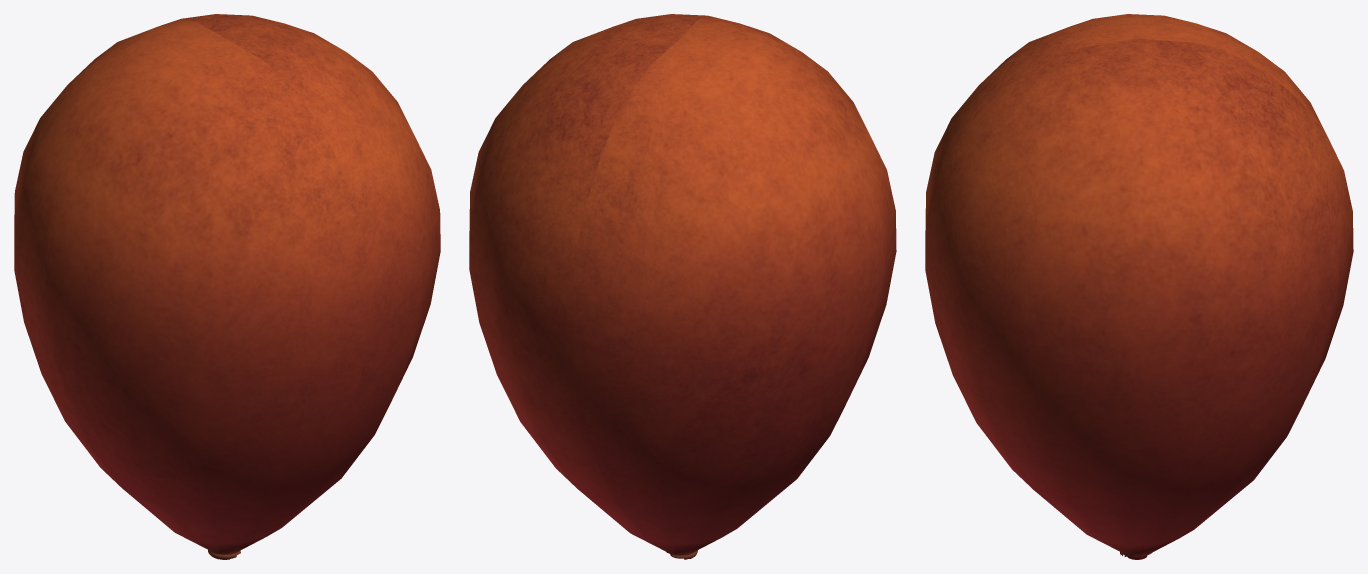
The model's file is 无绳气球.fbx.
3 renders of one model, left to right at view 1: azimuth 30°, elevation 25°; view 2: azimuth 150°, elevation 25°; view 3: azimuth 270°, elevation 25°, orthographic.
Visible parts, largest first — view 1: 气球; view 2: 气球; view 3: 气球.
Boxes of the visible parts, x1,y1,x2,y2 form: 气球: (14,14,440,559); 气球: (469,14,896,559); 气球: (925,14,1353,559).
Size of the model in its own units: 133 by 177 by 133.
